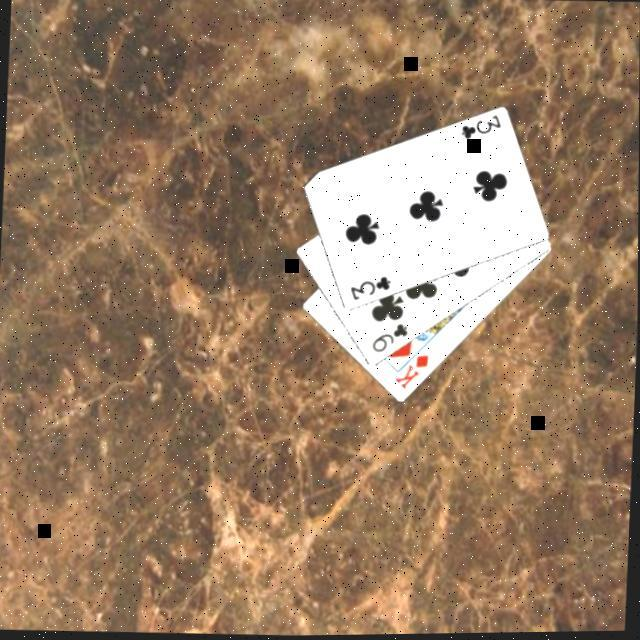3C: (458, 113, 506, 148), (348, 274, 396, 308)
9C: (370, 322, 413, 360)
KD: (394, 354, 434, 396)
